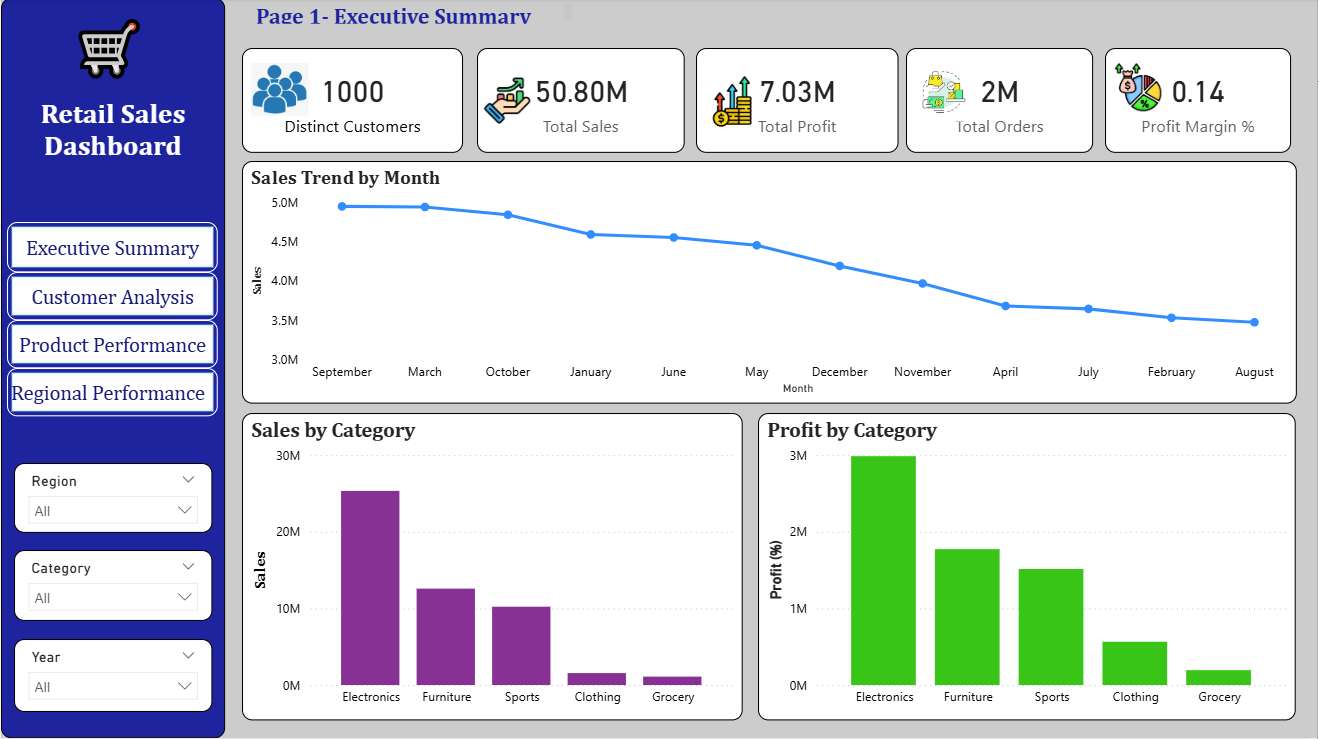

Layout of this report page (visuals, bound fields, positions):
{"tool":"powerbi","page":{"name":"Executive Summary","canvas":[1280,720],"ordinal":0},"visuals":[{"type":"card","fields":{"Values":["RetailData.Total Orders"]},"box":[880,49,182,102],"z":0},{"type":"card","fields":{"Values":["RetailData.Total Profit"]},"box":[676,49,197,102],"z":1000},{"type":"card","fields":{"Values":["RetailData.Total Sales"]},"box":[463,49,202,102],"z":2000},{"type":"card","fields":{"Values":["RetailData.Profit Margin %"]},"box":[1074,49,181,102],"z":3000},{"type":"card","fields":{"Values":["RetailData.Distinct Customers"]},"box":[234,49,215,102],"z":4000},{"type":"lineChart","title":" Sales Trend by Month","fields":{"Category":["RetailData.Month"],"Y":["Sum(RetailData.Sales_Amount)"]},"box":[234,159,1026,236],"z":5000},{"type":"columnChart","title":"Sales by Category","fields":{"Category":["RetailData.Category"],"Y":["Sum(RetailData.Sales_Amount)"]},"box":[234.4,403.6,487.3,298.6],"z":6000},{"type":"clusteredColumnChart","title":"Profit by Category","fields":{"Category":["RetailData.Category"],"Y":["Sum(RetailData.Profit)"]},"box":[736.3,403.6,523.3,298.6],"z":7000},{"type":"textbox","box":[0,0,217.9,719.8],"z":8000},{"type":"textbox","box":[243,0,317,30],"z":9000},{"type":"shape","box":[5.8,266.5,205.2,46.7],"z":10000},{"type":"shape","box":[5.8,217.9,205.2,48.6],"z":11000},{"type":"shape","box":[5.8,313.2,205.2,46.7],"z":12000},{"type":"shape","box":[5.8,359.9,205.2,46.7],"z":13000},{"type":"slicer","fields":{"Values":["RetailData.Region"]},"box":[12.6,452.3,192.6,68.1],"z":14000},{"type":"slicer","fields":{"Values":["RetailData.Category"]},"box":[12.6,536.9,192.6,69.1],"z":15000},{"type":"slicer","fields":{"Values":["RetailData.Year"]},"box":[12.6,623.5,192.6,71],"z":16000},{"type":"image","box":[243,62,56,53],"z":17000},{"type":"image","box":[468,60,49,79],"z":18000},{"type":"image","box":[687,66,49,68],"z":19000},{"type":"image","box":[1083,60,47,53],"z":20000},{"type":"image","box":[887,62,60,58],"z":21000}]}

Visuals, with their boxes in screenshot pixels (x1, y1, x2, y2), scaled from the page's 1280x720 canvas onto the 1319x739 screenshot:
card - RetailData.Total Orders: bbox=(907, 50, 1094, 155)
card - RetailData.Total Profit: bbox=(697, 50, 900, 155)
card - RetailData.Total Sales: bbox=(477, 50, 685, 155)
card - RetailData.Profit Margin %: bbox=(1107, 50, 1293, 155)
card - RetailData.Distinct Customers: bbox=(241, 50, 463, 155)
" Sales Trend by Month" lineChart: bbox=(241, 163, 1298, 405)
"Sales by Category" columnChart: bbox=(242, 414, 744, 721)
"Profit by Category" clusteredColumnChart: bbox=(759, 414, 1298, 721)
textbox: bbox=(0, 0, 225, 738)
textbox: bbox=(250, 0, 577, 31)
shape: bbox=(6, 274, 217, 321)
shape: bbox=(6, 224, 217, 274)
shape: bbox=(6, 321, 217, 369)
shape: bbox=(6, 369, 217, 417)
slicer - RetailData.Region: bbox=(13, 464, 211, 534)
slicer - RetailData.Category: bbox=(13, 551, 211, 622)
slicer - RetailData.Year: bbox=(13, 640, 211, 713)
image: bbox=(250, 64, 308, 118)
image: bbox=(482, 62, 533, 143)
image: bbox=(708, 68, 758, 138)
image: bbox=(1116, 62, 1164, 116)
image: bbox=(914, 64, 976, 123)
